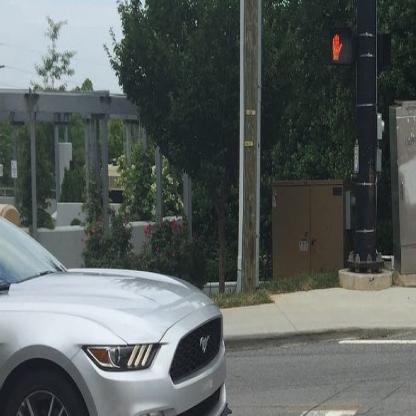Don-t Walk: (330, 26, 354, 65)
